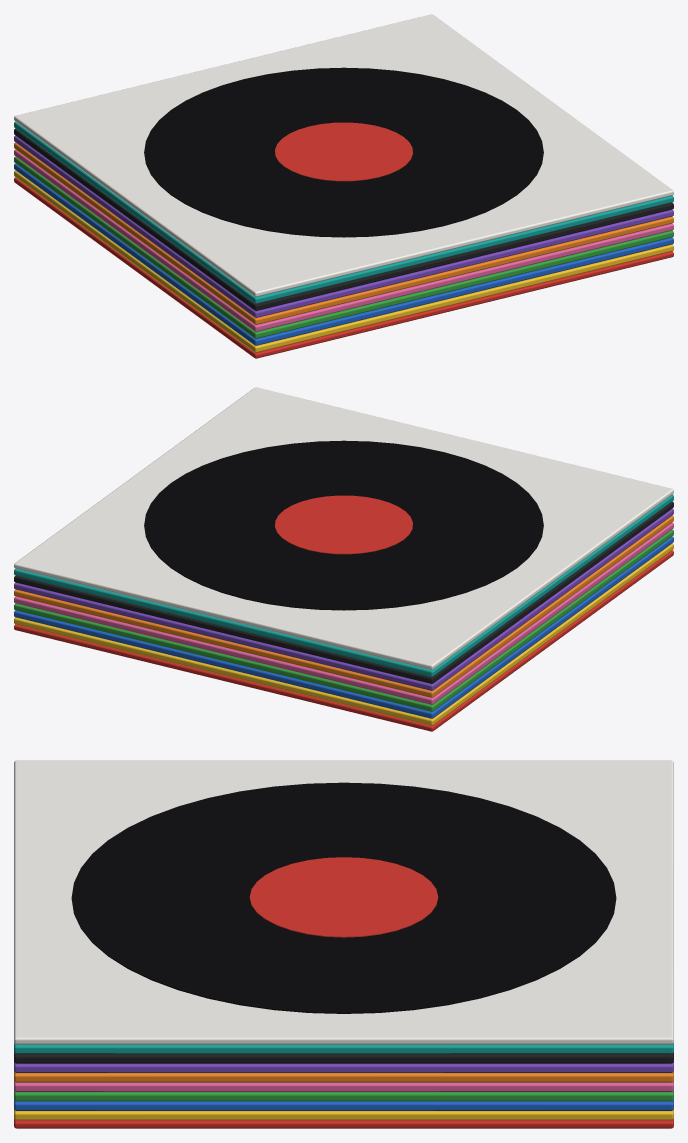
File: vinilos-10-tumbados.glb
3 renders of one model, top to bottom at view 1: azimuth 30°, elevation 25°; view 2: azimuth 150°, elevation 25°; view 3: azimuth 270°, elevation 25°, orthographic. The views are drawn at different scales.
Visible parts, largest first — view 1: vinilos-10-tumbados; view 2: vinilos-10-tumbados; view 3: vinilos-10-tumbados.
Boxes of the visible parts, x1,y1,x2,y2 form: vinilos-10-tumbados: [14, 14, 673, 358]; vinilos-10-tumbados: [14, 387, 673, 731]; vinilos-10-tumbados: [14, 760, 673, 1128].
Bounding box in the file's own units: 0.315 × 0.05 × 0.315.
